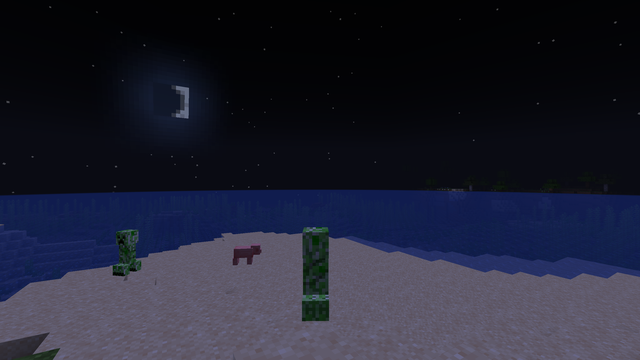cochons: (234, 244, 254, 266)
creepers: (295, 222, 335, 321), (116, 227, 137, 276)
